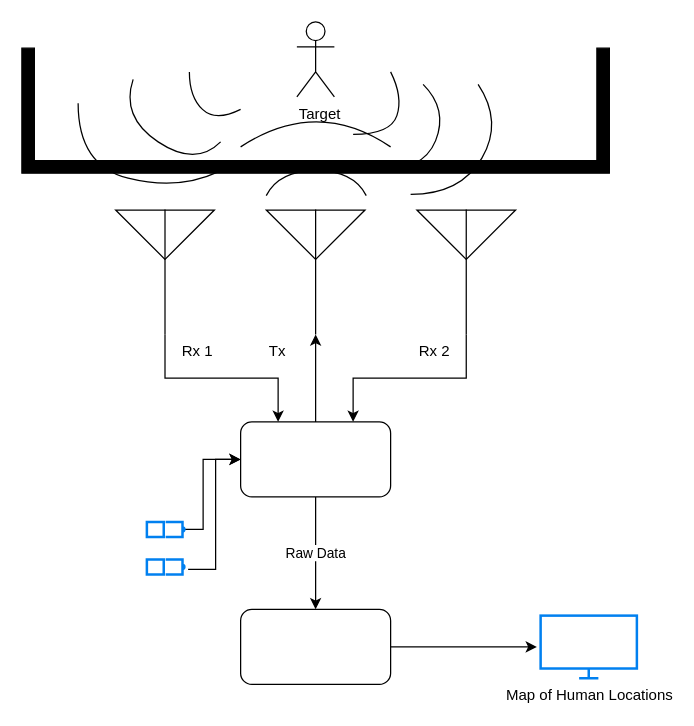
Image size: 694x726. Some labels were removed from this diagram. Here are the shapes that lost their labels. From the top down, the centre of each, then its label:
point 315,459: Ancortek Radar Development Kit
point 315,646: Computer
